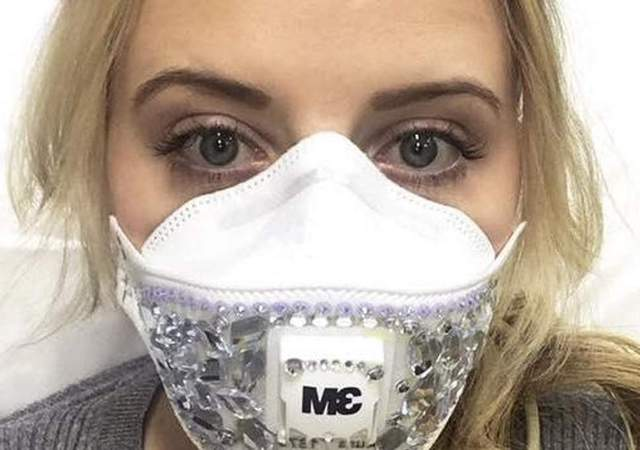mask: (133, 179, 491, 441)
